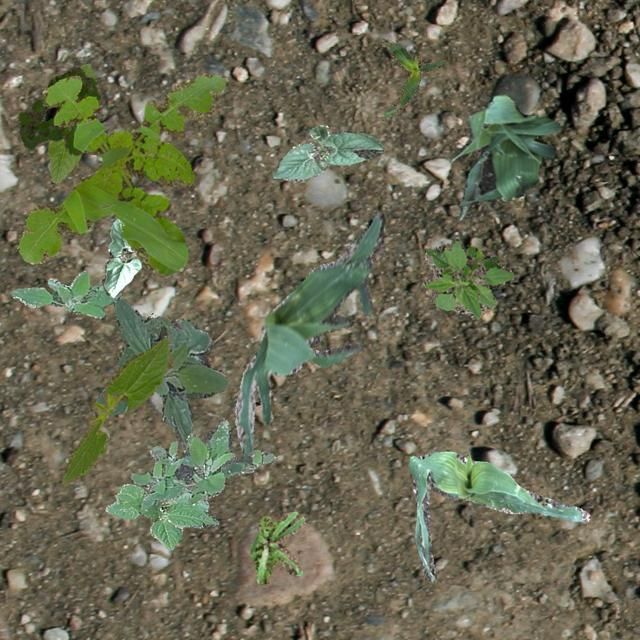crop: (234, 210, 384, 457), (408, 451, 588, 582), (94, 296, 228, 448), (60, 338, 172, 482), (451, 92, 558, 220), (104, 484, 218, 548), (272, 124, 382, 180), (46, 62, 94, 182), (380, 38, 444, 118), (100, 216, 142, 296)
weed: (16, 72, 228, 274), (130, 418, 276, 510), (419, 240, 514, 318), (19, 65, 100, 154), (10, 270, 120, 316), (250, 508, 304, 582)
